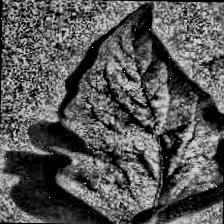spider mites: (53, 0, 224, 224)
